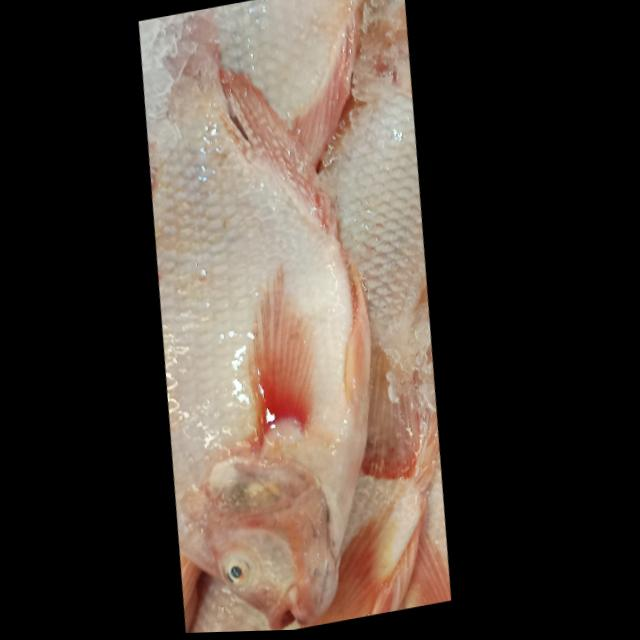Tilapia: (87, 0, 447, 636)
